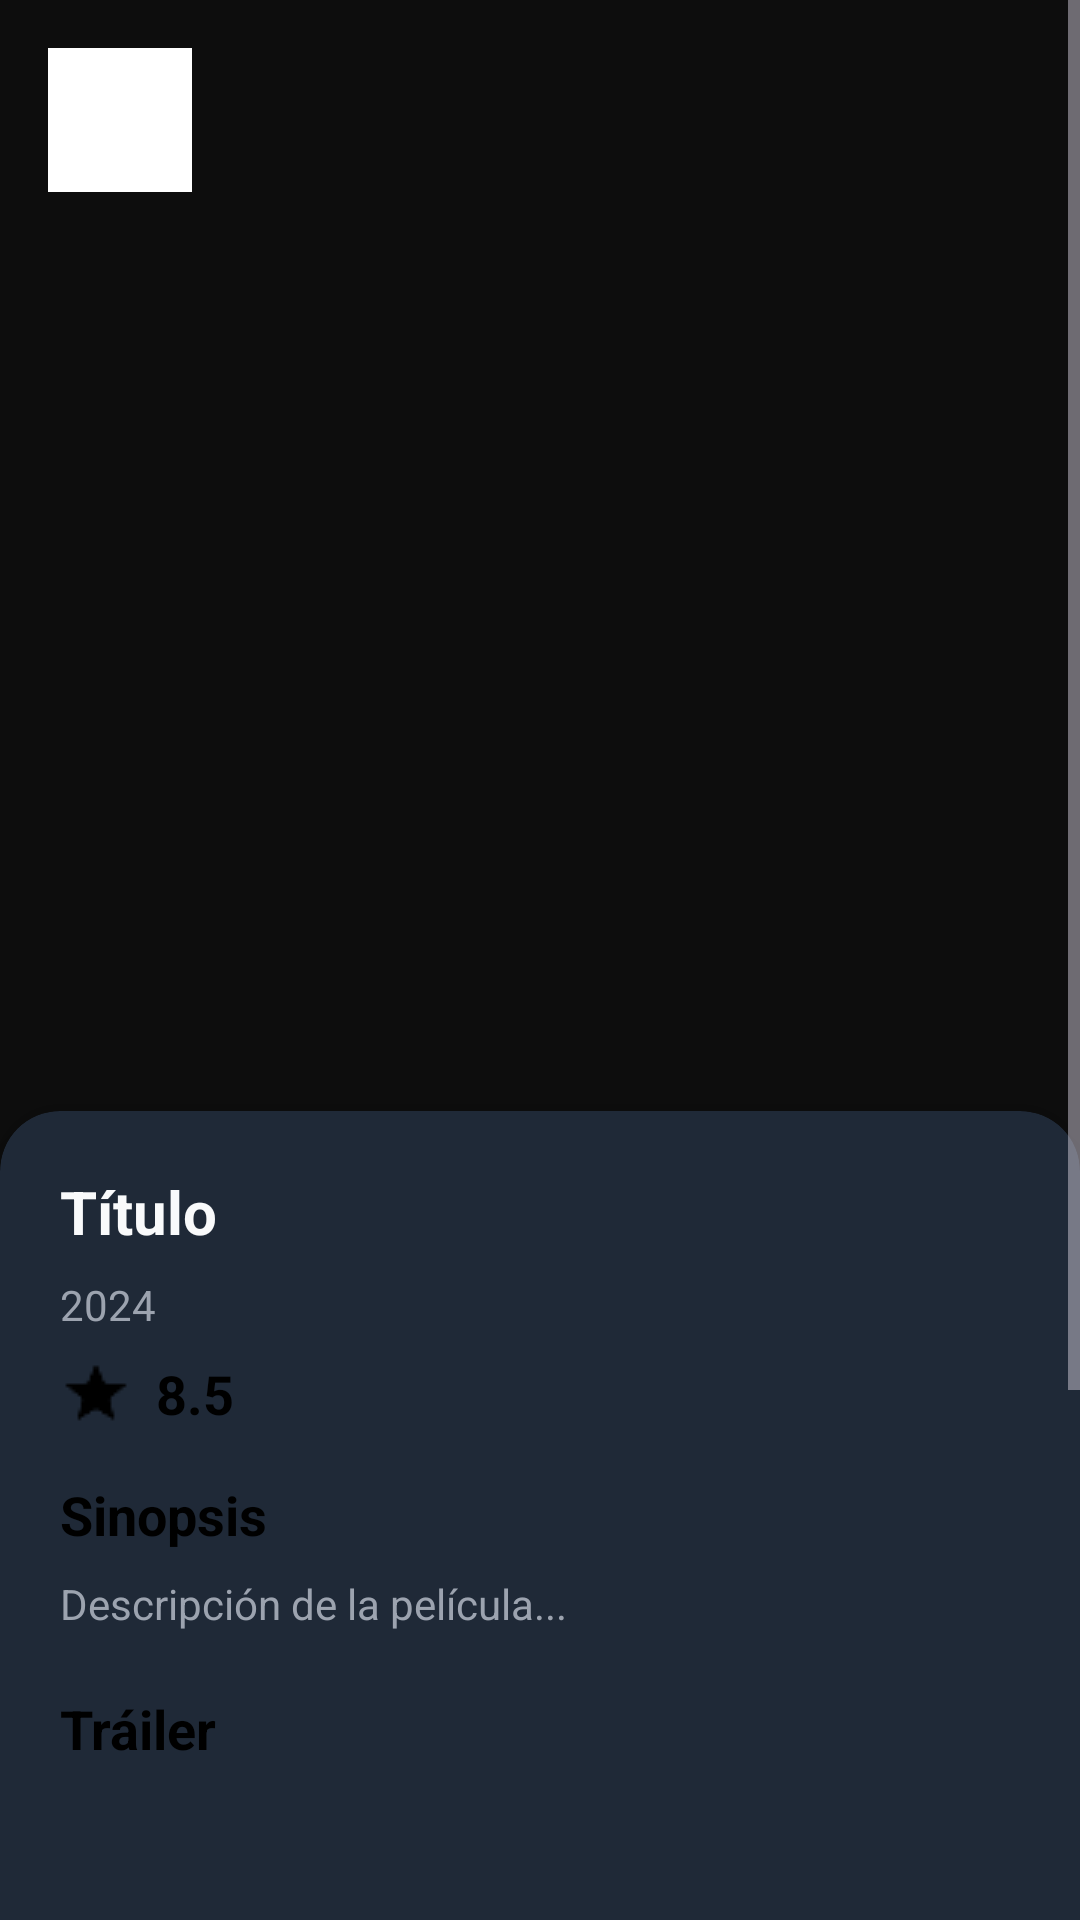

Where to tap for icons on this 1080w x 1920h app screen, as point (x, y):
Rating: point (96, 1393)
